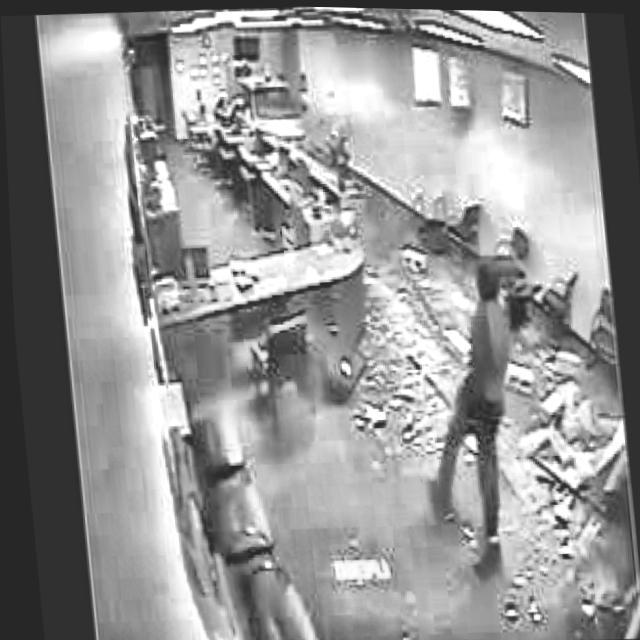Weapon: (466, 218, 561, 623)
